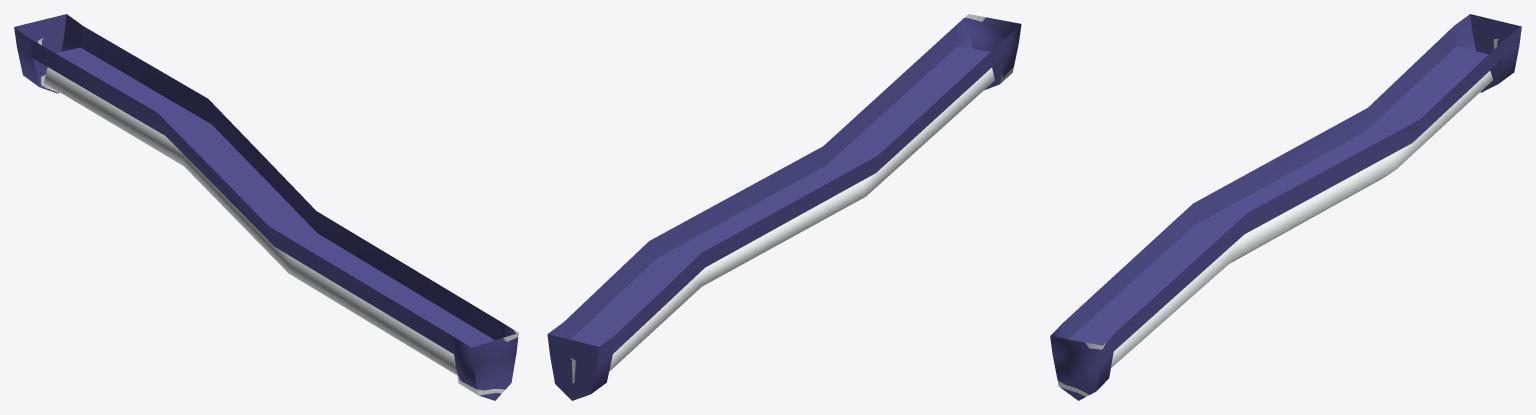
The model's file is TherapyLamp.fbx.
3 renders of one model, left to right at view 1: azimuth 30°, elevation 25°; view 2: azimuth 150°, elevation 25°; view 3: azimuth 330°, elevation 25°, orthographic.
Visible parts, largest first — view 1: pCylinder10; view 2: pCylinder10; view 3: pCylinder10.
Part boxes in pixels (x1,y1,x2,y2): pCylinder10: (14, 14, 518, 400); pCylinder10: (547, 14, 1021, 400); pCylinder10: (1050, 14, 1521, 400).
Bounding box in the file's own units: 80.57 × 56.45 × 723.
